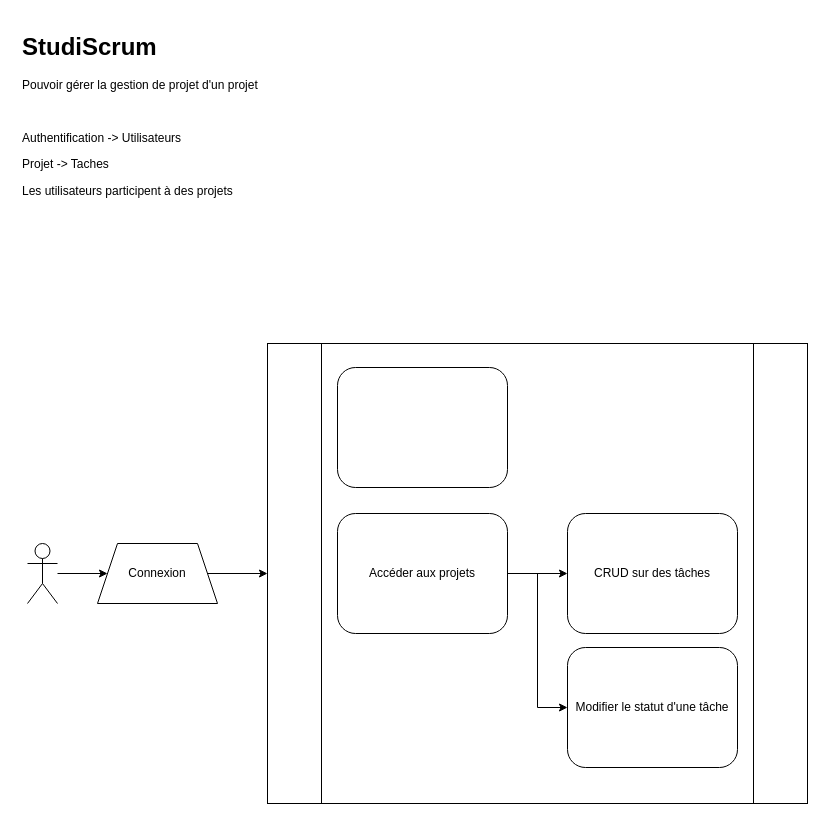
The diagram is 825 pixels wide and 821 high, and some of its shapes have lost their labels. The box of each missing label's shape, as (x1, y1, x2, y2) in pixels:
Actor: (26, 542, 58, 604)
CRUD projets dont il est propriétaire: (336, 366, 508, 488)
